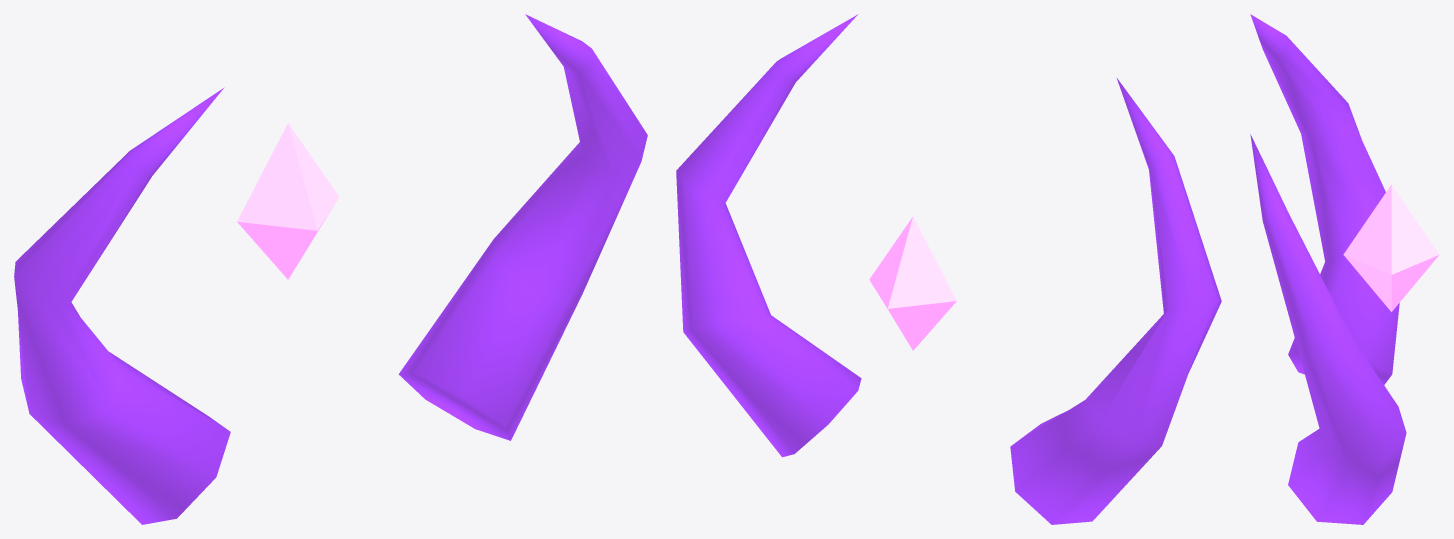
Rendered from headgear_void_horns.glb.
3 renders of one model, left to right at view 1: azimuth 30°, elevation 25°; view 2: azimuth 150°, elevation 25°; view 3: azimuth 270°, elevation 25°, orthographic. The views are drawn at different scales.
Parts seen in each view (by area): view 1: VoidHorn_1, VoidHorn_-1, VoidCoreStar; view 2: VoidHorn_1, VoidHorn_-1, VoidCoreStar; view 3: VoidHorn_1, VoidHorn_-1, VoidCoreStar.
Part boxes in pixels (x1=…): VoidHorn_1: x1=398, y1=14, x2=647, y2=440; VoidHorn_-1: x1=14, y1=87, x2=230, y2=524; VoidCoreStar: x1=237, y1=123, x2=338, y2=279; VoidHorn_1: x1=676, y1=14, x2=861, y2=457; VoidHorn_-1: x1=1010, y1=77, x2=1221, y2=524; VoidCoreStar: x1=869, y1=216, x2=956, y2=350; VoidHorn_1: x1=1250, y1=134, x2=1406, y2=524; VoidHorn_-1: x1=1250, y1=14, x2=1399, y2=384; VoidCoreStar: x1=1343, y1=184, x2=1439, y2=311.
Bounding box in the file's own units: 0.9182 × 0.6601 × 0.295.
